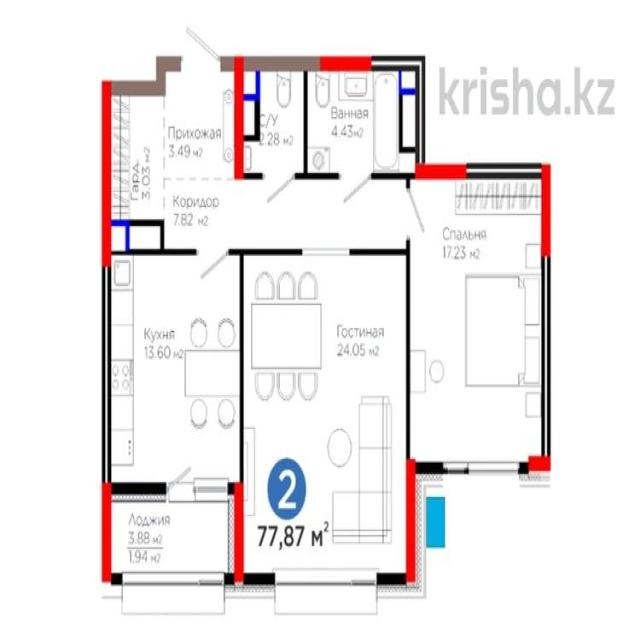balcony: (110, 490, 236, 575)
bathroom: (309, 69, 419, 174), (240, 66, 307, 174)
hallway: (107, 99, 237, 221), (164, 185, 408, 246)
kitchen: (106, 256, 240, 484)
living_room: (242, 252, 409, 583), (412, 181, 540, 464)
